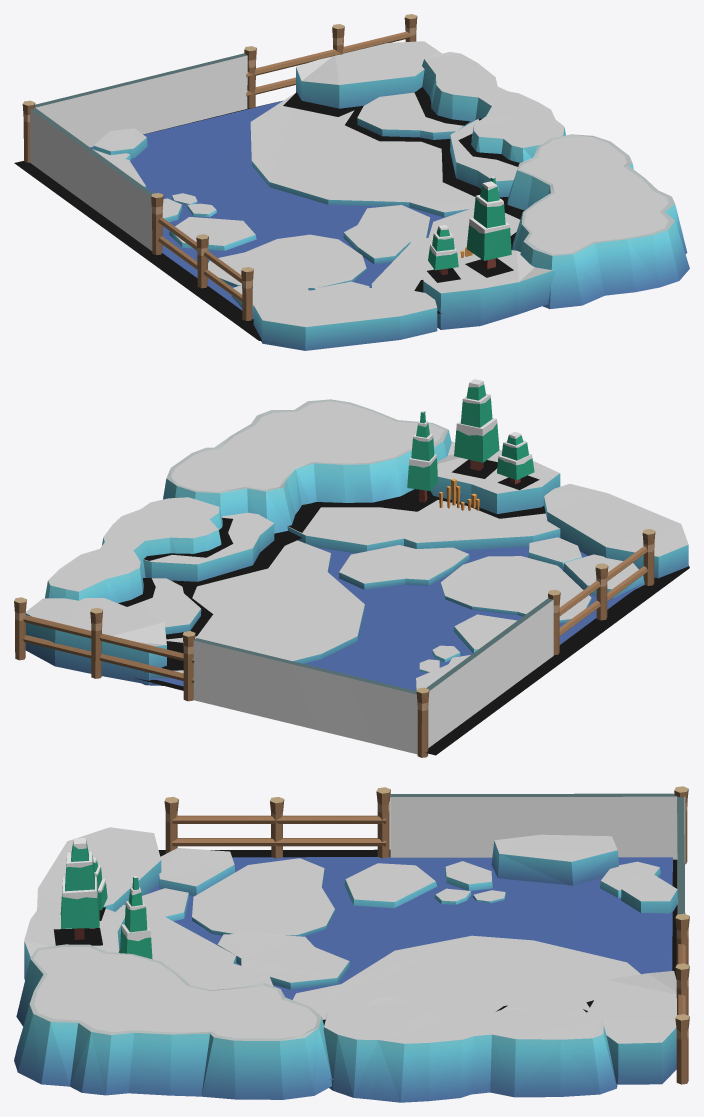
The model's file is xweilan_1022_2.FBX.
3 renders of one model, top to bottom at view 1: azimuth 30°, elevation 25°; view 2: azimuth 150°, elevation 25°; view 3: azimuth 270°, elevation 25°, orthographic. The views are drawn at different scales.
Parts seen in each view (by area): view 1: xweilan_1022_2; view 2: xweilan_1022_2; view 3: xweilan_1022_2.
Part boxes in pixels (x1,y1,x2,y2): xweilan_1022_2: (14,14,689,350); xweilan_1022_2: (14,379,689,757); xweilan_1022_2: (14,786,689,1102).
Size of the model in its own units: 4486 by 1213 by 5204.
